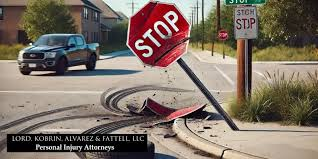stop sign: (124, 1, 191, 69)
